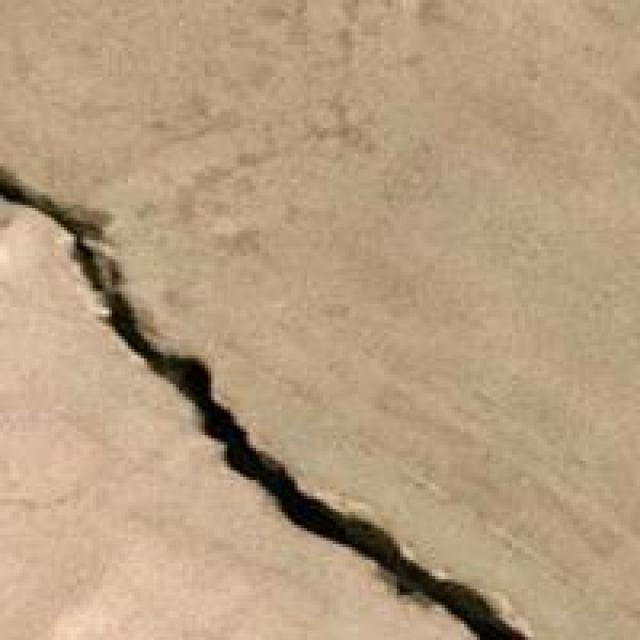crack: (0, 163, 544, 637)
